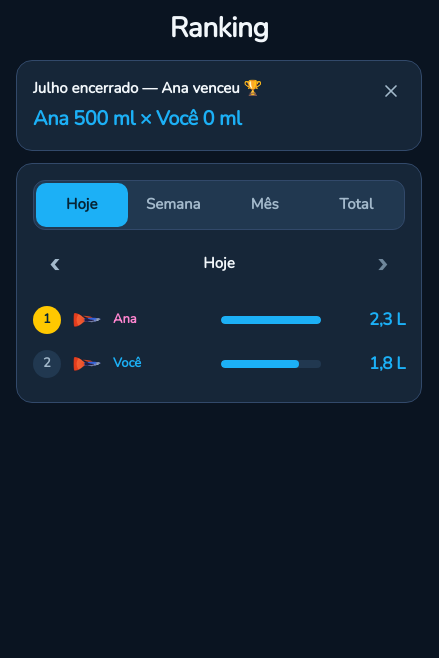
Test case: Ranking › shows all-time since the first register
The image size is (439, 658).
Click the button "Total". click: [356, 204]
box: [310, 182, 402, 226]
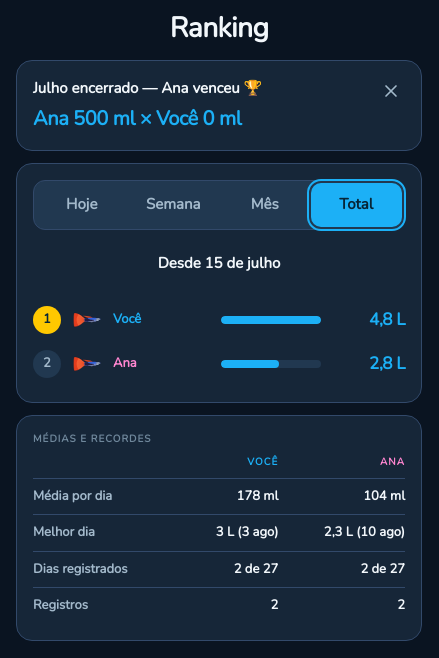
Result: the text "Desde 15 de julho" is shown at [158, 253, 280, 273]
